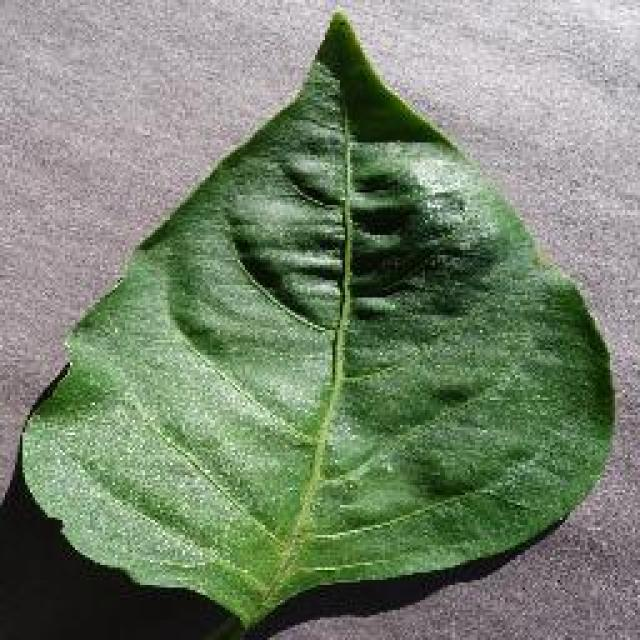Leaf: (58, 193, 516, 568)
